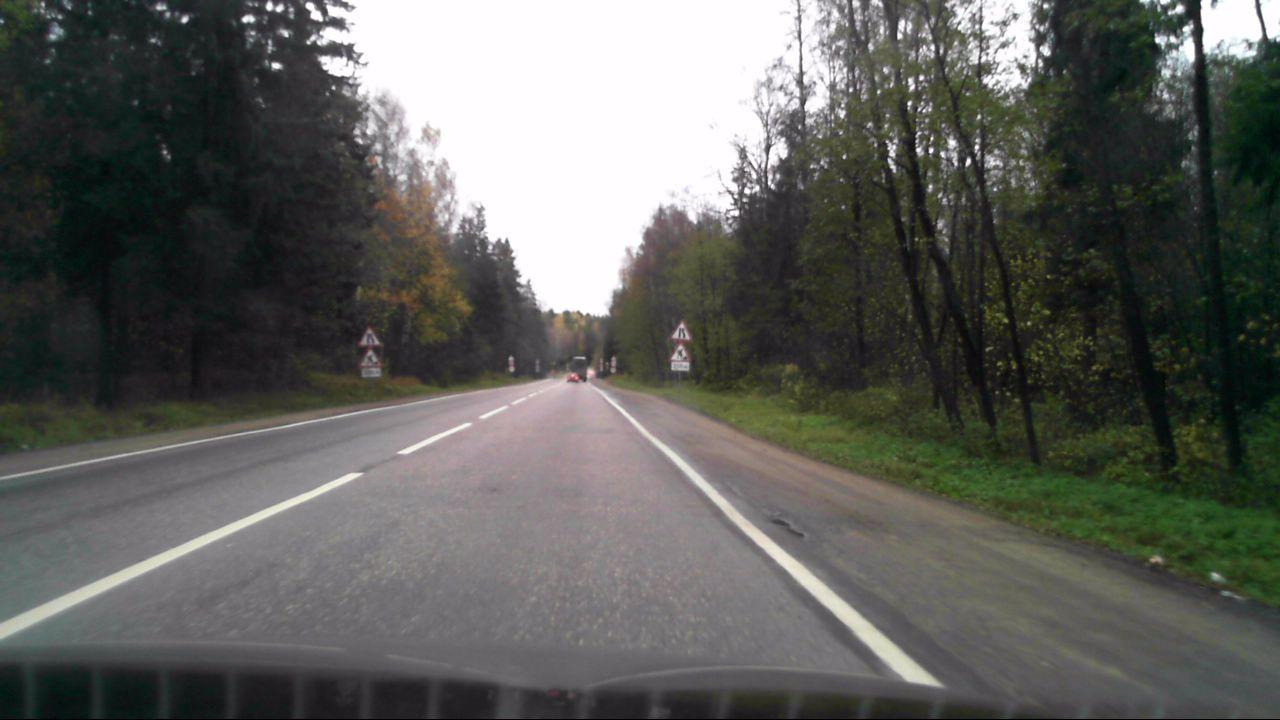1_20_2: (667, 318, 694, 342), (358, 326, 379, 346)
1_25: (667, 343, 694, 362), (356, 348, 382, 366)
8_1_1: (669, 362, 692, 371), (361, 368, 382, 377)
